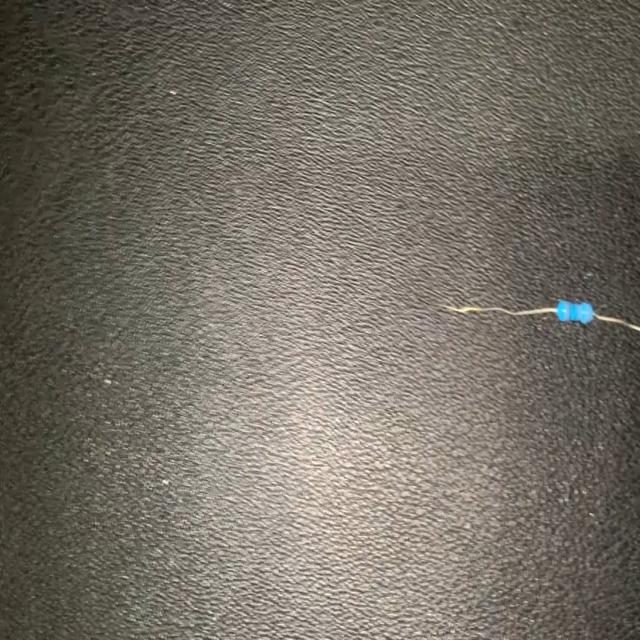resistor: (441, 289, 640, 340)
